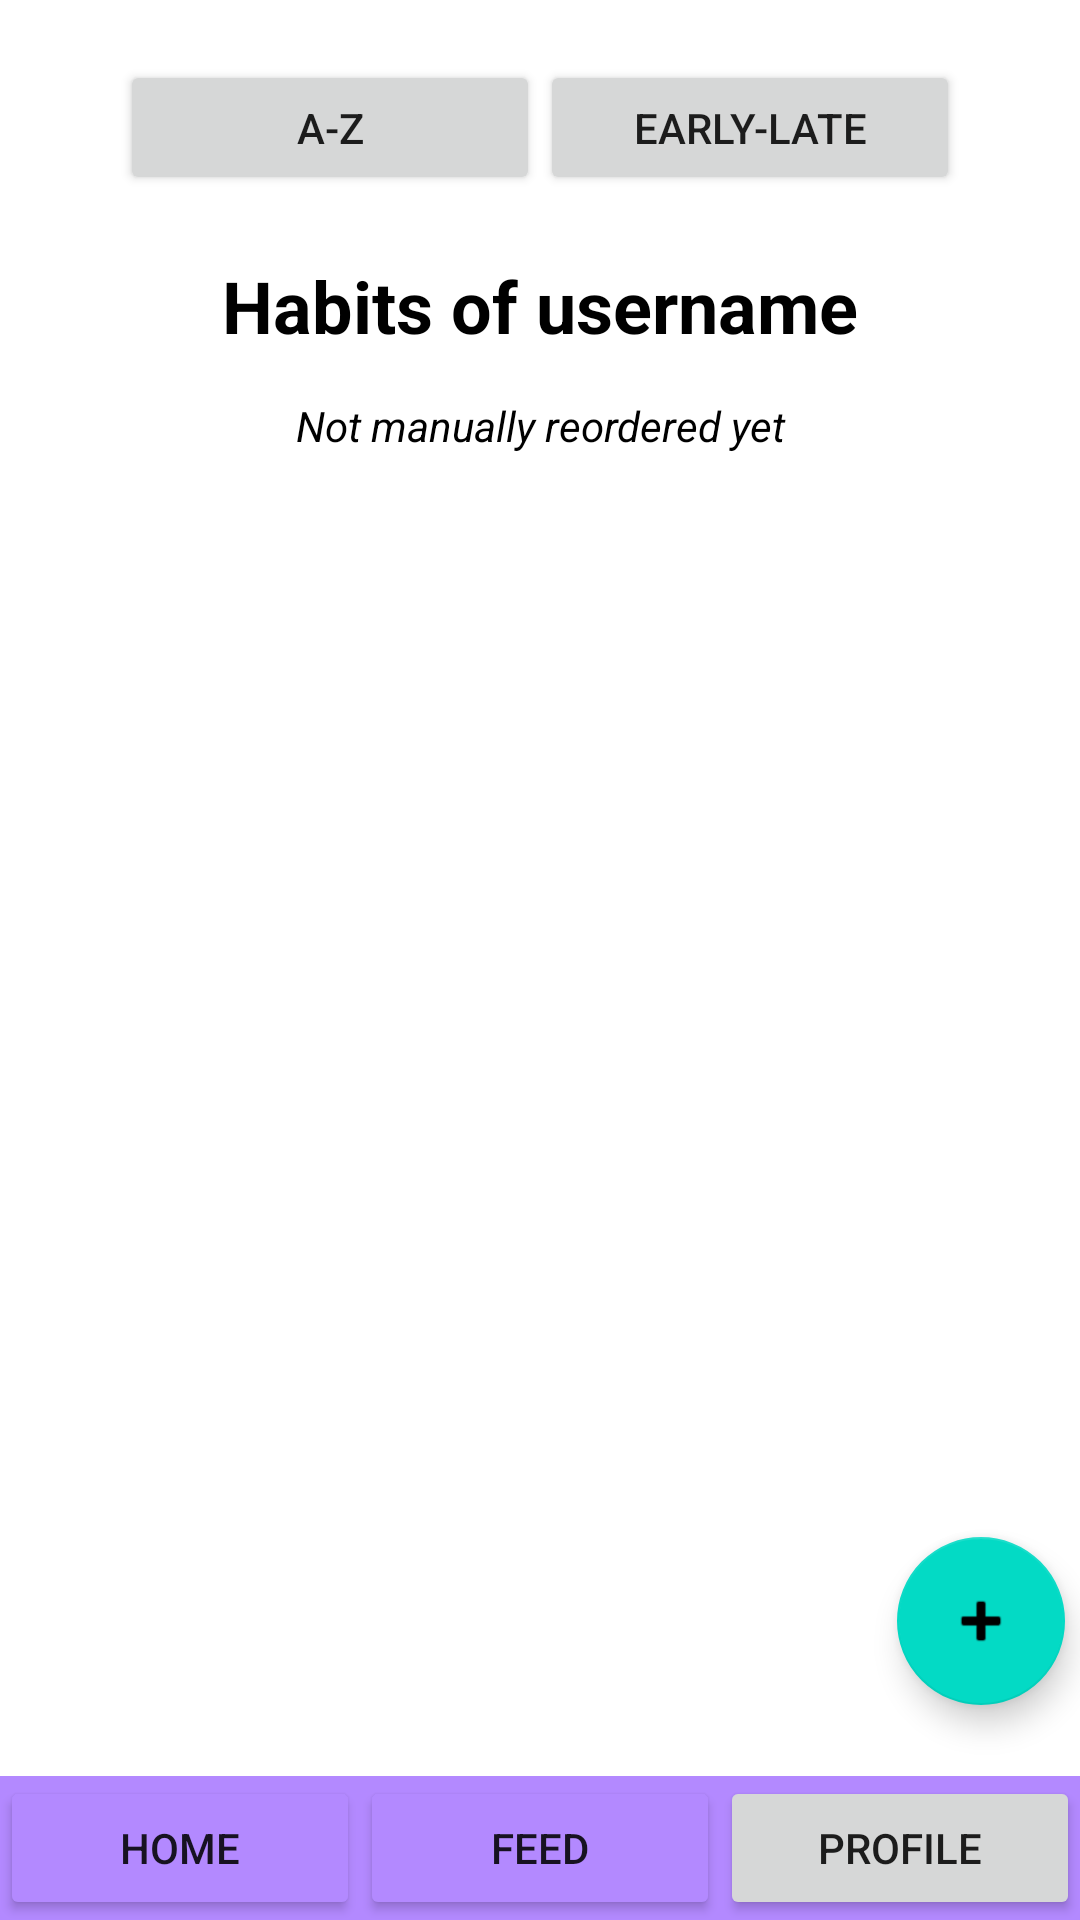

Named icons in this screenshot (1080 x 1920) and their centers, [x,y]:
add: [981,1621]
